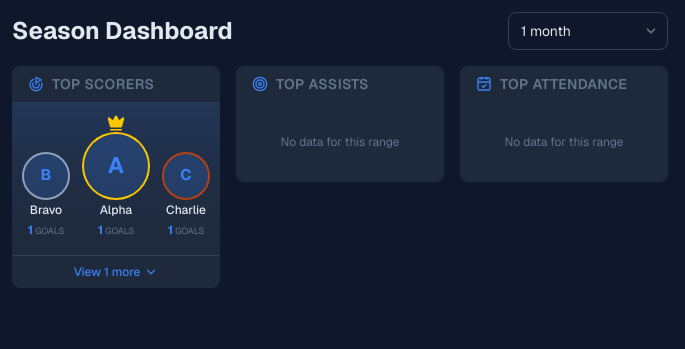
SeasonDashboardPage › shows top 3 on podium; tied 4th is hidden until Show more clicked
The image size is (685, 349).
Expected: the link "Alpha" is shown, [100,202,132,218]
Expected: the link "Bravo" is shown, [30,202,62,218]
Step 1. Click the button "View 1 more" → (116, 271), box [12,254,220,288]
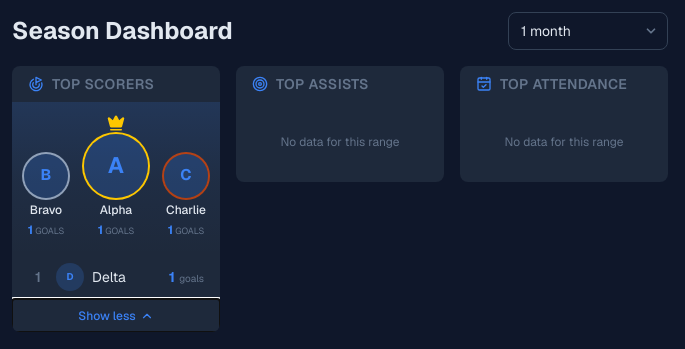
Expected: the link "Delta" is shown, [92,268,126,286]
